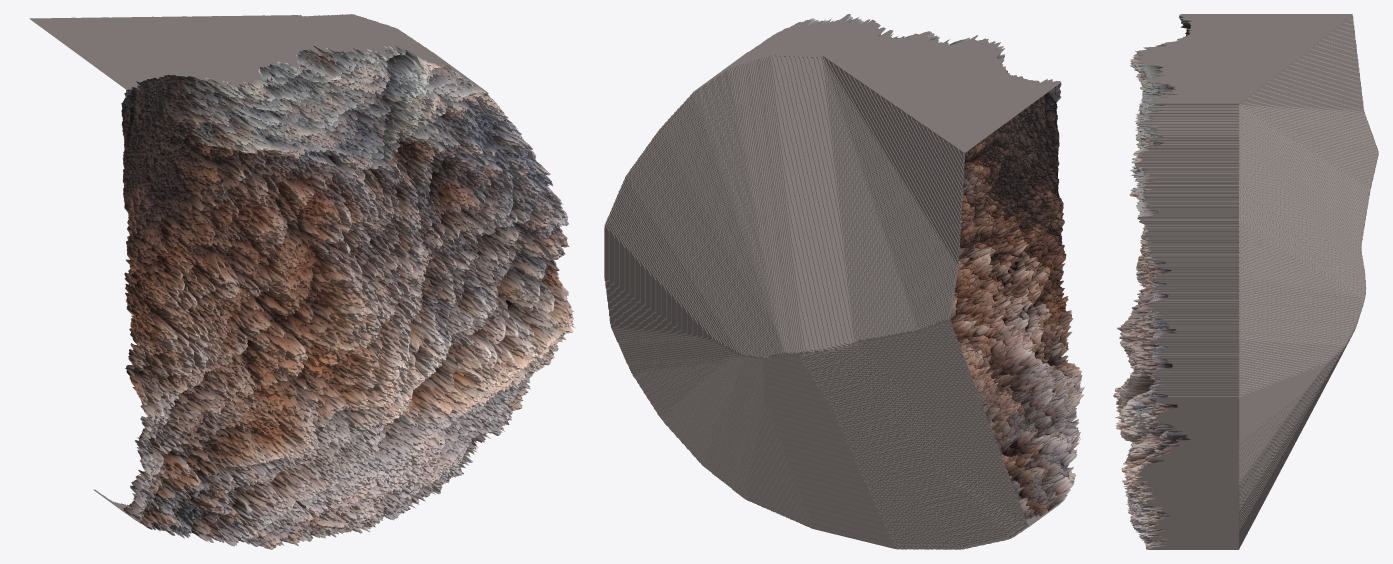
Rendered from dark_interactive_relief.glb.
3 views of the same model, side by side, from view 1: azimuth 30°, elevation 25°; view 2: azimuth 150°, elevation 25°; view 3: azimuth 270°, elevation 25° (orthographic). The views are drawn at different scales.
Visible parts, largest first — view 1: dark_front_photo_relief, dark_sidewalls; view 2: dark_back_synthetic, dark_front_photo_relief, dark_sidewalls; view 3: dark_sidewalls, dark_back_synthetic, dark_front_photo_relief.
Boxes of the visible parts, box(x1,y1,x2,y2) form: dark_front_photo_relief: box(121, 45, 574, 549); dark_sidewalls: box(29, 14, 573, 549); dark_back_synthetic: box(604, 54, 1028, 549); dark_front_photo_relief: box(801, 15, 1084, 519); dark_sidewalls: box(605, 14, 1060, 549); dark_sidewalls: box(1132, 14, 1352, 549); dark_back_synthetic: box(1238, 14, 1378, 549); dark_front_photo_relief: box(1113, 16, 1191, 549).
Size of the model in its own units: 0.9288 by 0.9942 by 0.5644.
Materials: 1 (1 with a texture image).
